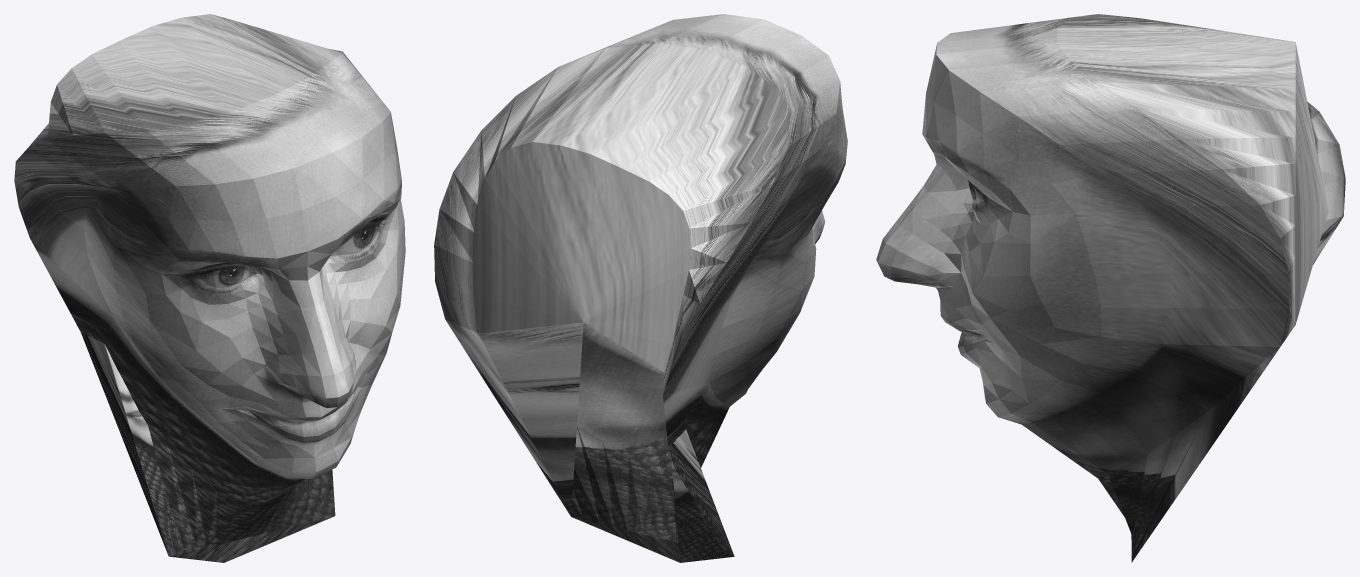
File: eva_marie_saint.glb
The picture shows the model from 3 angles, left to right: view 1: azimuth 30°, elevation 25°; view 2: azimuth 150°, elevation 25°; view 3: azimuth 270°, elevation 25°; orthographic projection.
Parts seen in each view (by area): view 1: geometry_0; view 2: geometry_0; view 3: geometry_0.
Boxes of the visible parts, x1,y1,x2,y2 form: geometry_0: (14, 14, 405, 562); geometry_0: (434, 14, 847, 562); geometry_0: (876, 14, 1345, 562).
Bounding box in the file's own units: 15.67 × 24.93 × 21.46.
1 material, 1 textured.
